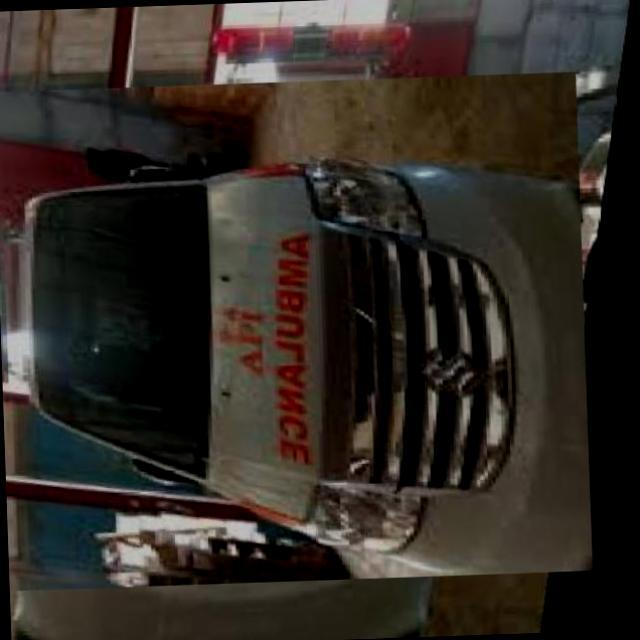emergency-vehicle: (0, 42, 564, 619)
